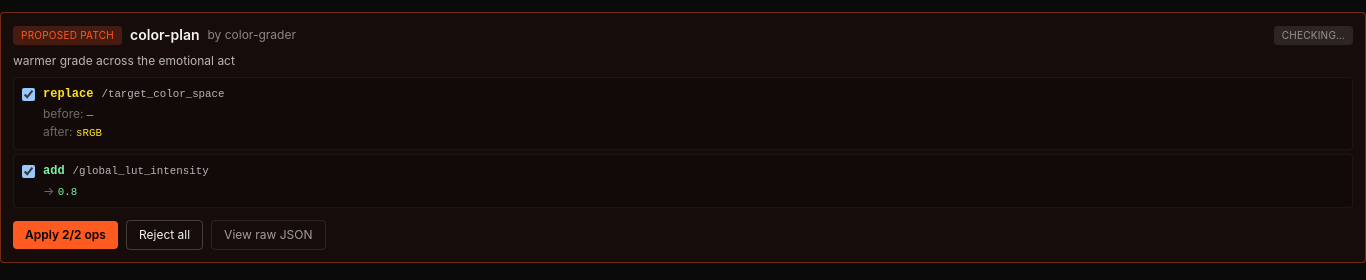
<ArtifactDiffReview /> › reject button disables apply and shows rejected state
Click the button "Reject all": (165, 235) [126,220,203,250]
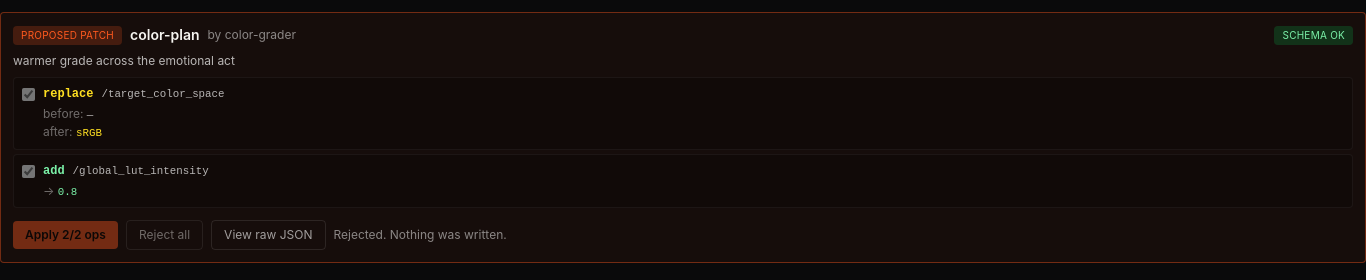
Check: the text "Rejected. Nothing was written." is shown, box [334,227,507,243]
